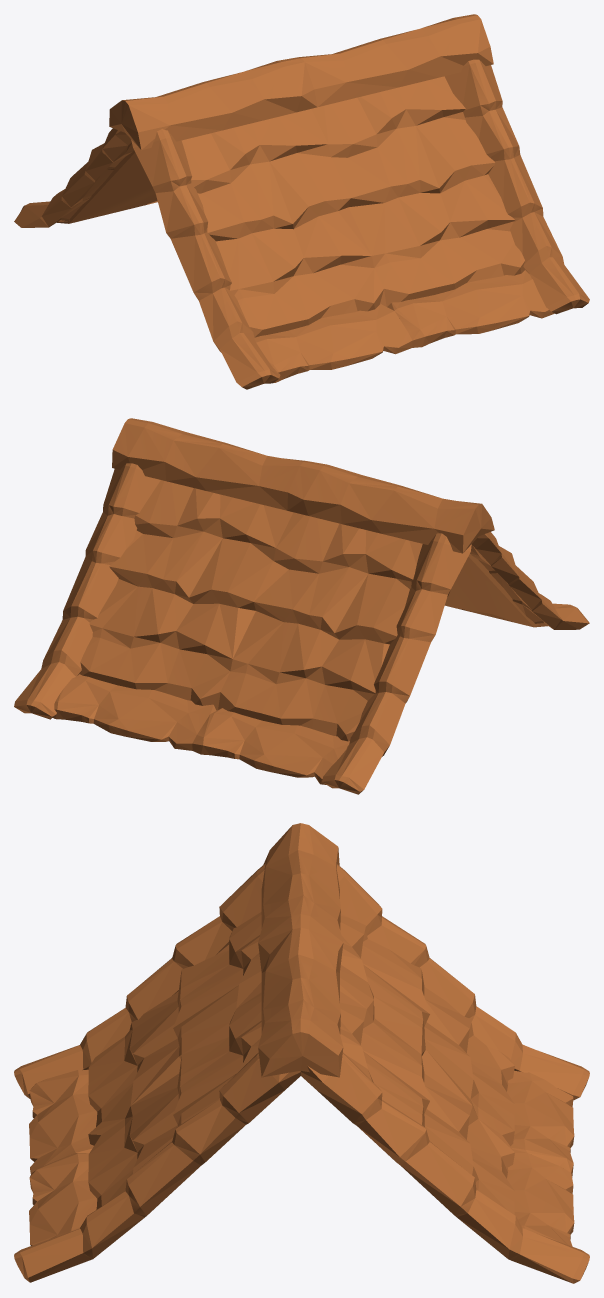
File: roof.fbx
3 views of the same model, one above another, from view 1: azimuth 30°, elevation 25°; view 2: azimuth 150°, elevation 25°; view 3: azimuth 270°, elevation 25° (orthographic). The views are drawn at different scales.
Parts seen in each view (by area): view 1: roof; view 2: roof; view 3: roof.
Part boxes in pixels (x1,y1,x2,y2): roof: (14, 14, 589, 389); roof: (14, 418, 589, 794); roof: (14, 823, 589, 1283).
Bounding box in the file's own units: 854 × 483 × 978.
